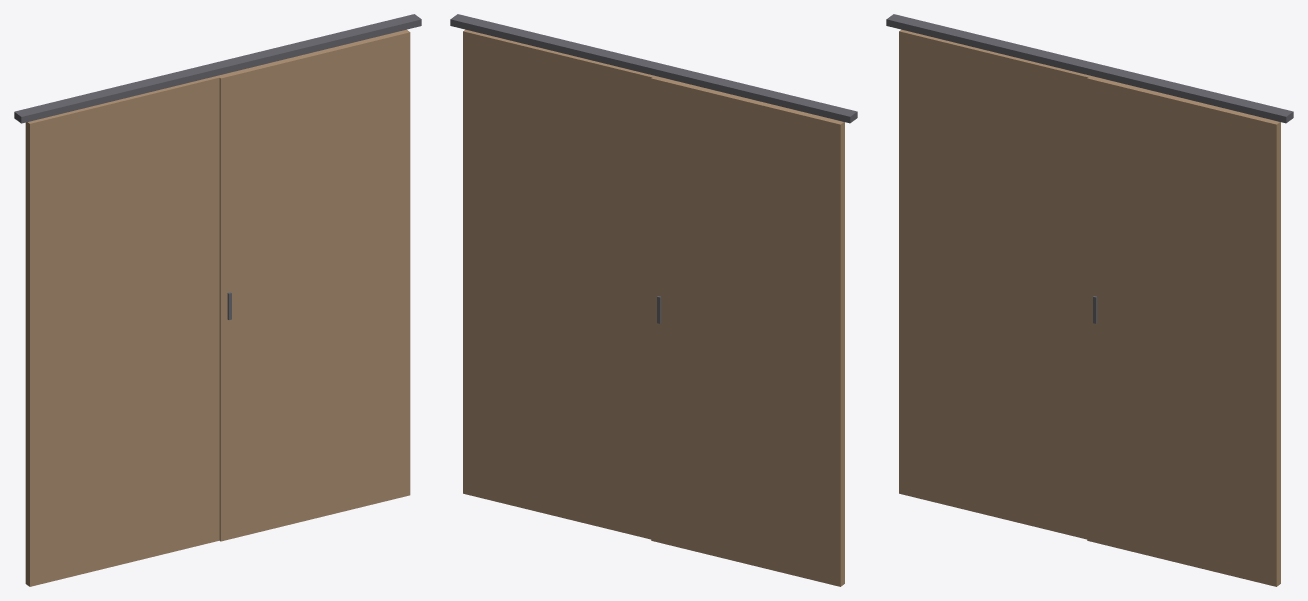
Rendered from double_sliding_door.glb.
3 views of the same model, side by side, from view 1: azimuth 30°, elevation 25°; view 2: azimuth 150°, elevation 25°; view 3: azimuth 330°, elevation 25° (orthographic).
Visible parts, largest first — view 1: DoubleSlidingDoor_PanelLeft, DoubleSlidingDoor_PanelRight, DoubleSlidingDoor_Rail; view 2: DoubleSlidingDoor_PanelLeft, DoubleSlidingDoor_PanelRight, DoubleSlidingDoor_Rail; view 3: DoubleSlidingDoor_PanelRight, DoubleSlidingDoor_PanelLeft, DoubleSlidingDoor_Rail.
Boxes of the visible parts, box(x1,y1,x2,y2) form: DoubleSlidingDoor_PanelLeft: box(25, 76, 219, 586); DoubleSlidingDoor_PanelRight: box(217, 29, 410, 541); DoubleSlidingDoor_Rail: box(14, 14, 421, 123); DoubleSlidingDoor_PanelLeft: box(651, 76, 844, 586); DoubleSlidingDoor_PanelRight: box(463, 29, 654, 539); DoubleSlidingDoor_Rail: box(450, 14, 857, 123); DoubleSlidingDoor_PanelRight: box(1087, 76, 1280, 586); DoubleSlidingDoor_PanelLeft: box(899, 29, 1090, 539); DoubleSlidingDoor_Rail: box(886, 14, 1293, 123).
Size of the model in its own units: 1.9 by 2.15 by 0.065.
